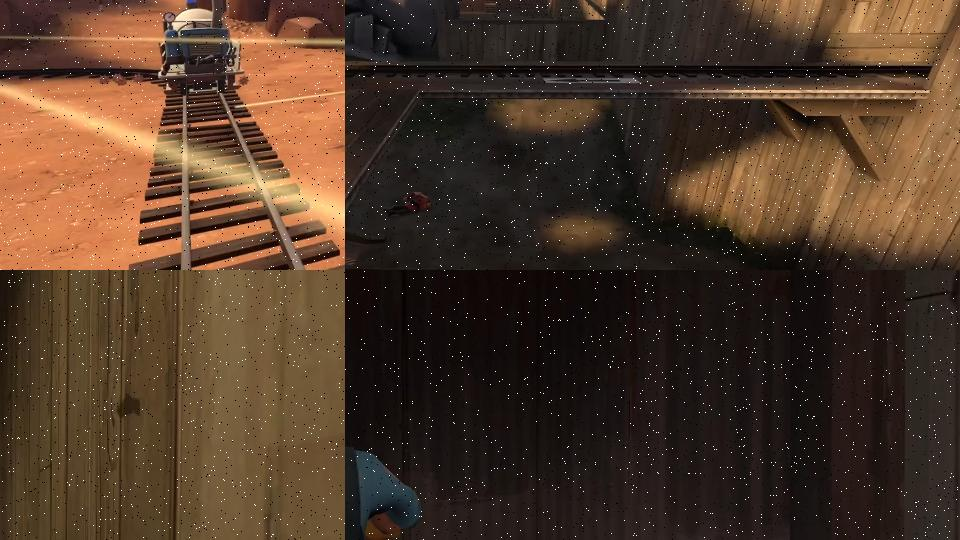Enemy: (383, 191, 432, 217), (90, 0, 125, 15)
